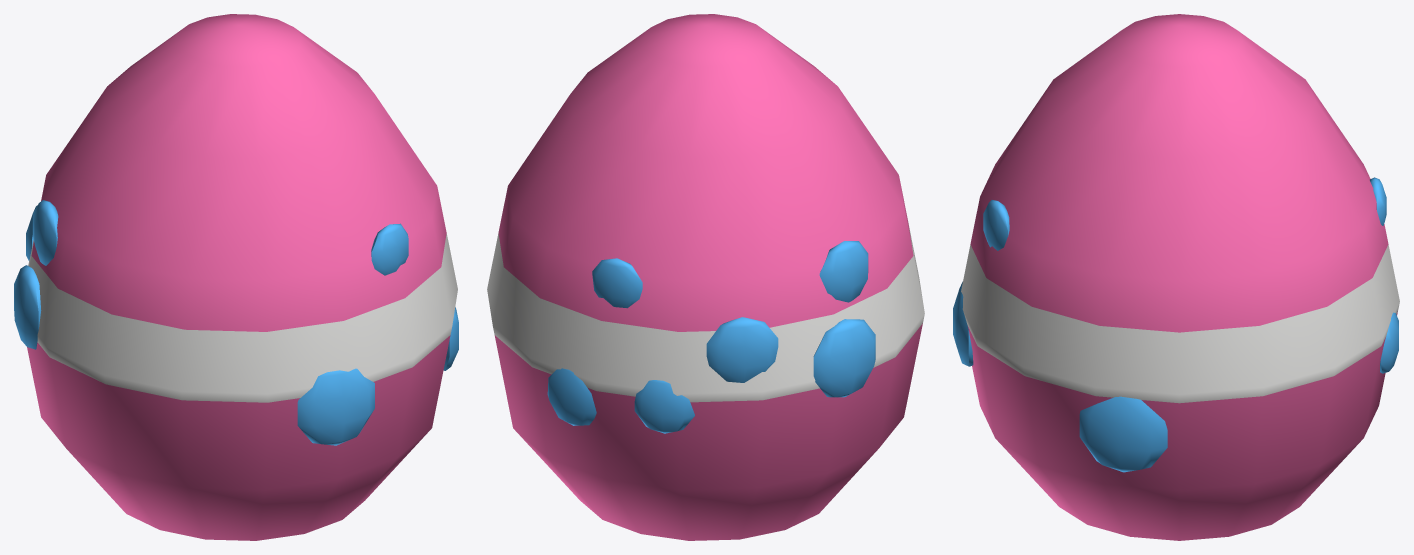
The model's file is CandyEgg.fbx.
3 views of the same model, side by side, from view 1: azimuth 30°, elevation 25°; view 2: azimuth 150°, elevation 25°; view 3: azimuth 270°, elevation 25° (orthographic).
Parts seen in each view (by area): view 1: CandyEgg; view 2: CandyEgg; view 3: CandyEgg.
Part boxes in pixels (x1,y1,x2,y2): CandyEgg: (14,14,458,540); CandyEgg: (487,14,924,540); CandyEgg: (953,14,1399,540).
Size of the model in its own units: 2.1 by 2.5 by 2.13.
1 material, 1 textured.
